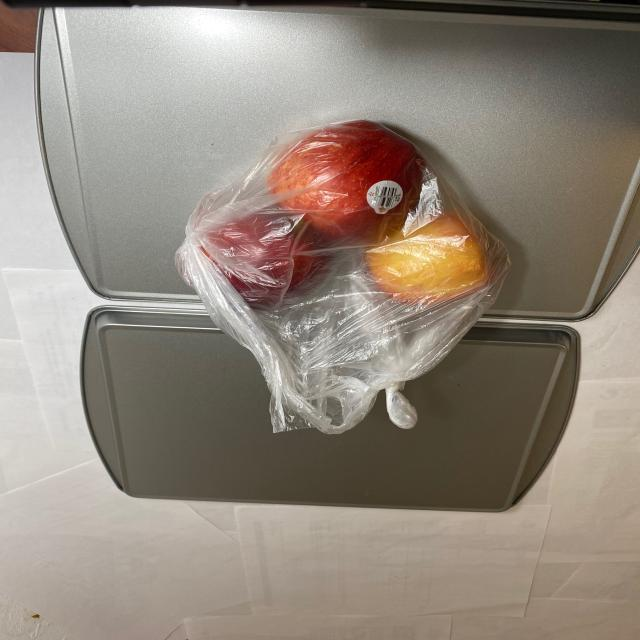apple: (177, 120, 504, 315)
